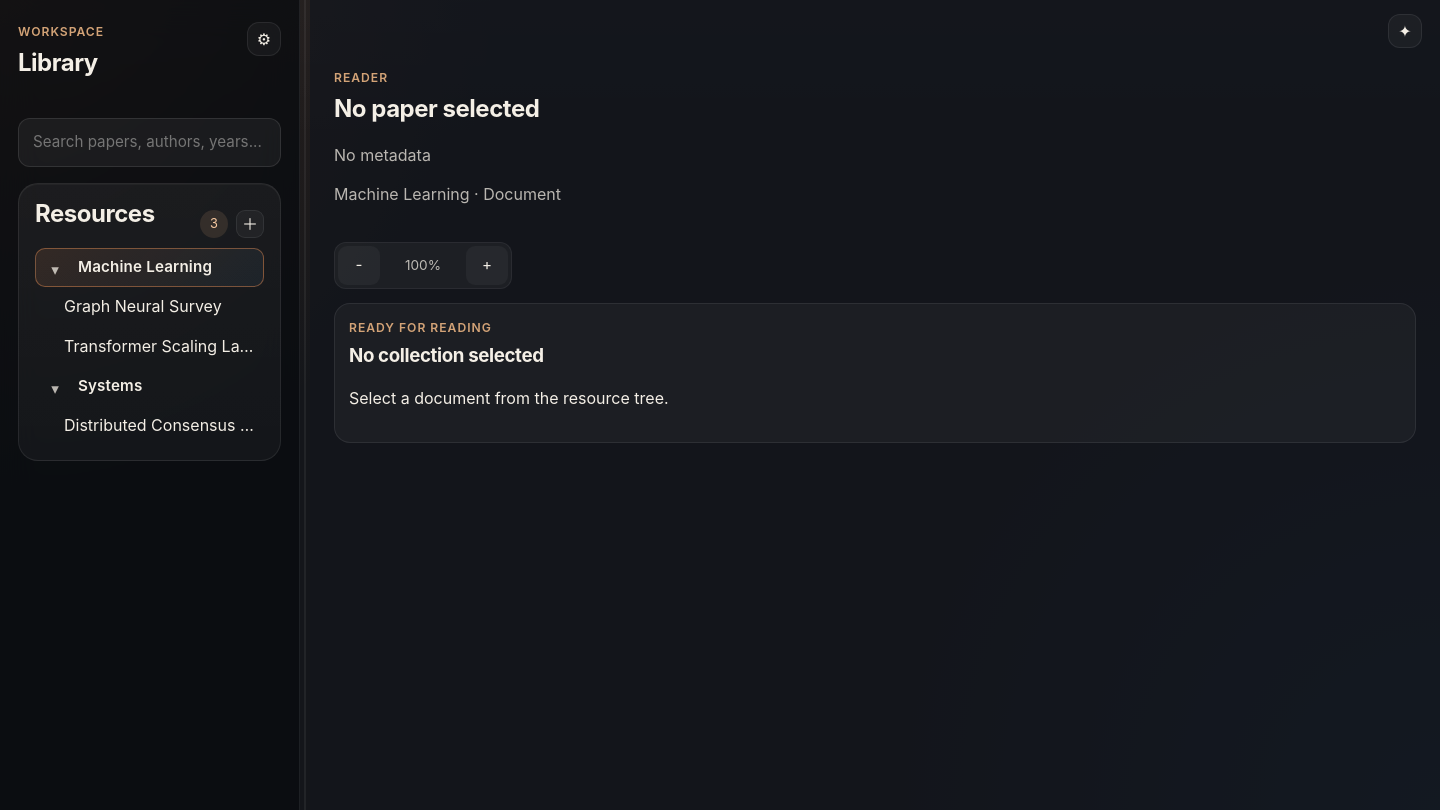
Test: App reading workspace › renders compact session controls and reference chips in the AI panel
The width and height of the screenshot is (1440, 810).
Click the list item "Transformer Scaling Laws" at (150, 346), box [35,327,264,365]
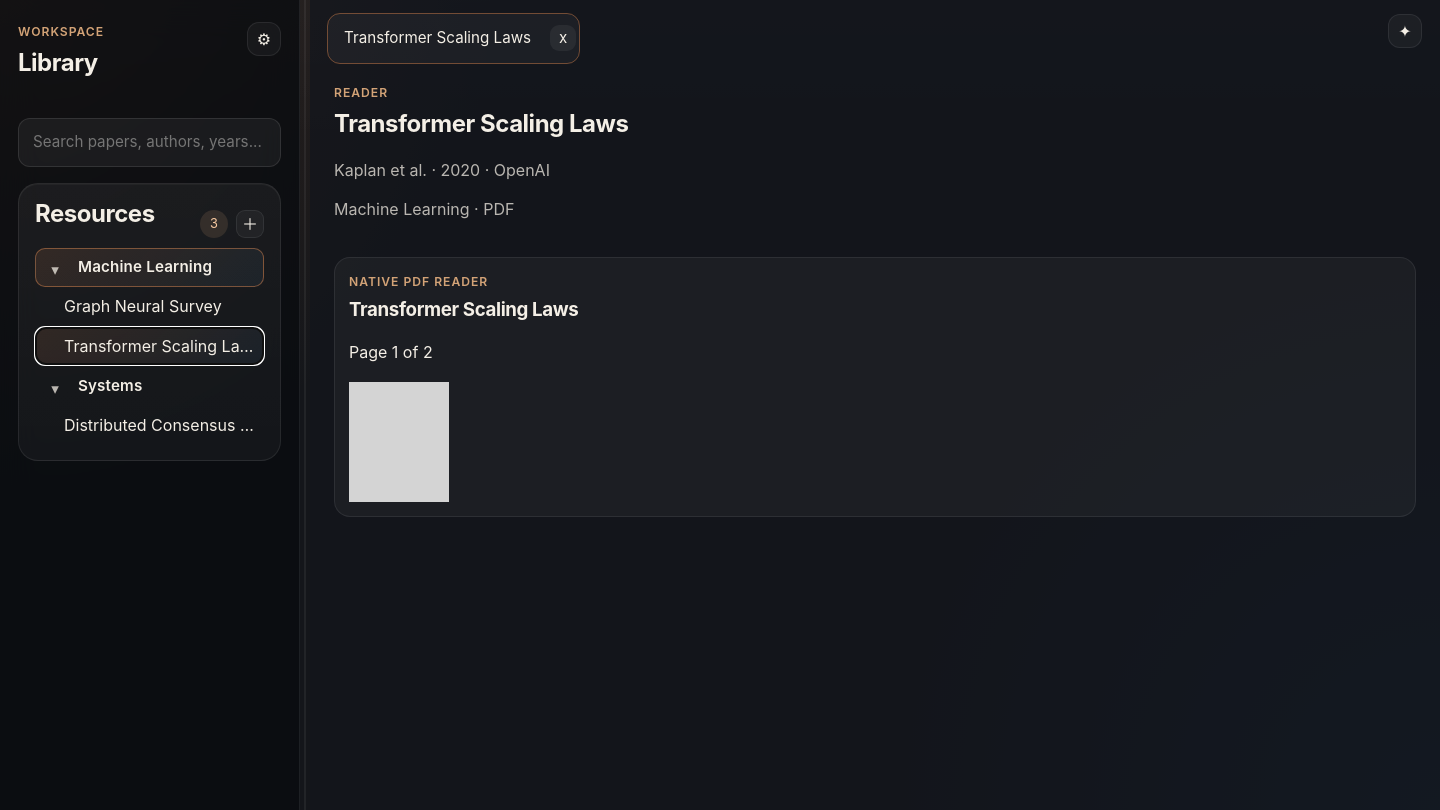
Click the button named "Open AI panel" at (1405, 31), box [1388,14,1422,48]
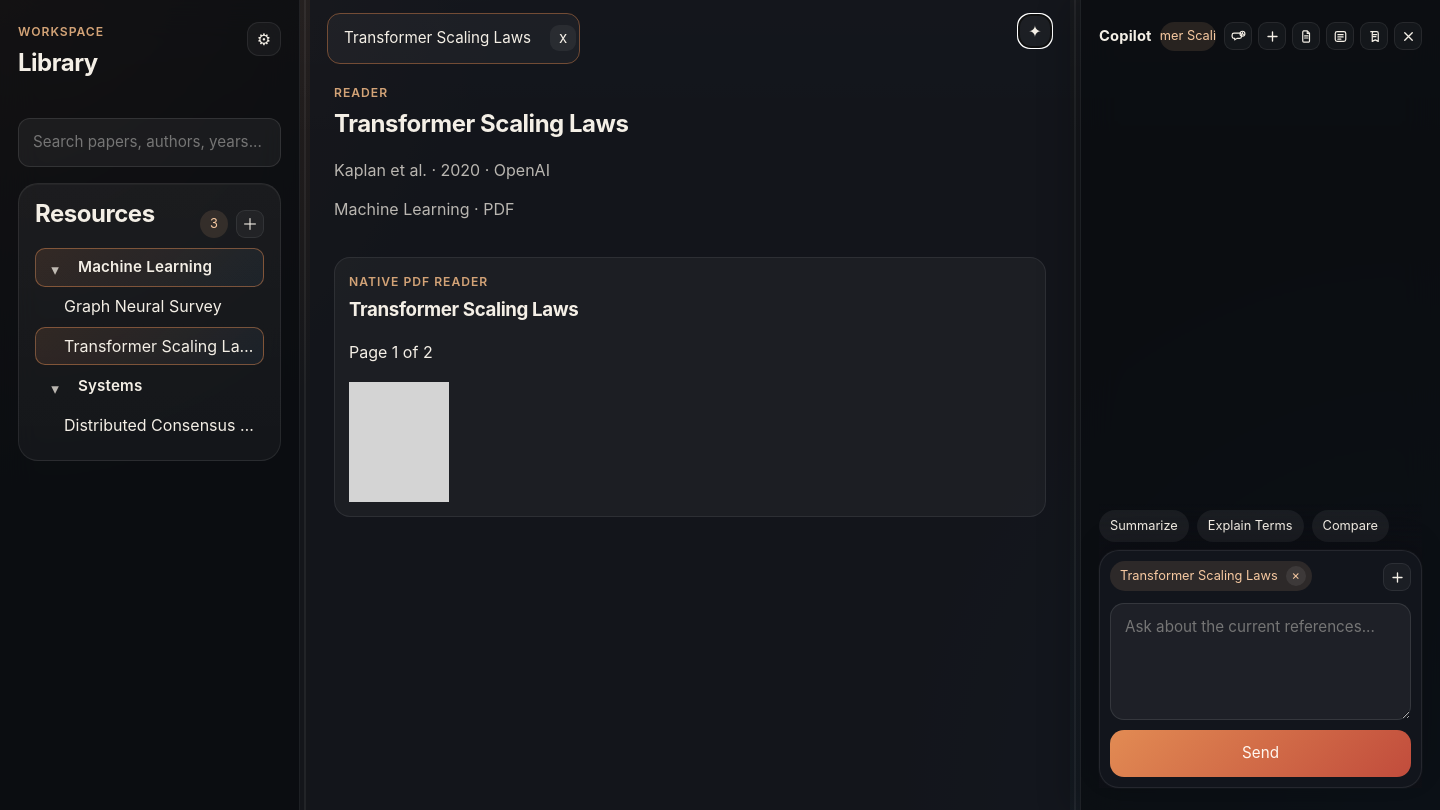
Expected: the text box named "AI prompt" is shown, [1110,603,1411,720]
Expected: the button "Summarize" is shown, [1099,510,1189,542]
Expected: the button "Explain Terms" is shown, [1197,510,1304,542]
